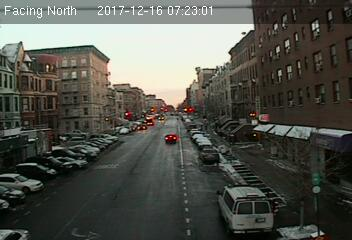car: (201, 147, 218, 159), (164, 133, 177, 142)
police: (217, 183, 275, 235)
